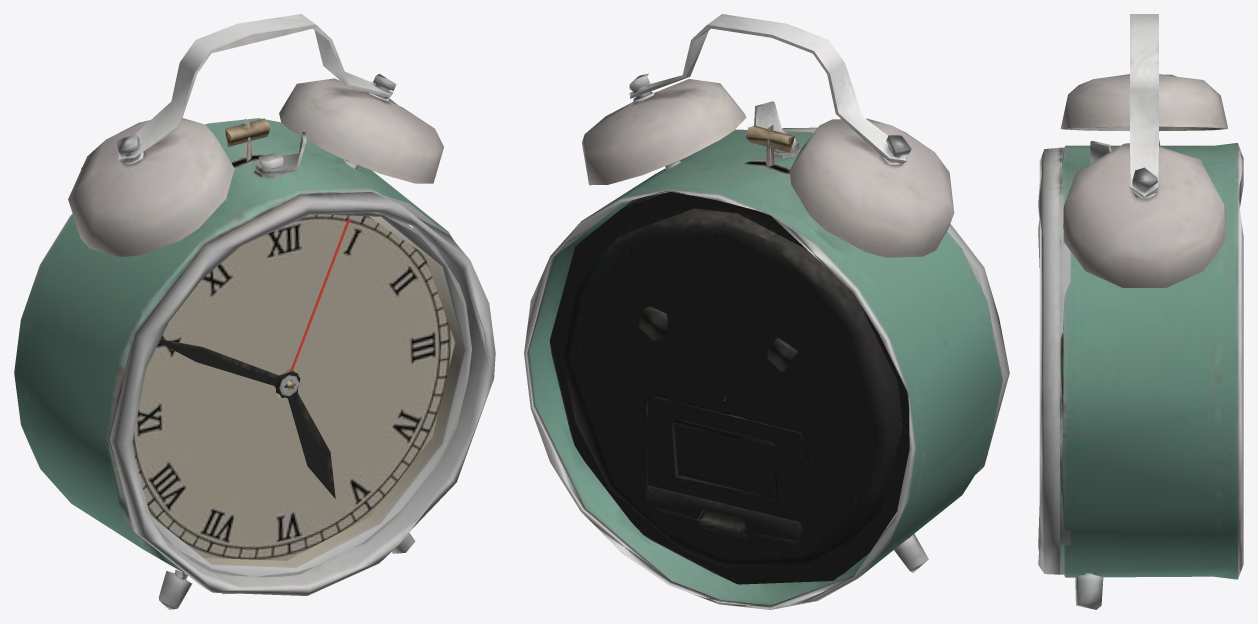
File: wecker.glb
The picture shows the model from 3 angles, left to right: view 1: azimuth 30°, elevation 25°; view 2: azimuth 150°, elevation 25°; view 3: azimuth 270°, elevation 25°; orthographic projection. The views are drawn at different scales.
Parts seen in each view (by area): view 1: alarm_clock_01; view 2: alarm_clock_01; view 3: alarm_clock_01.
Part boxes in pixels (x1,y1,x2,y2): alarm_clock_01: (14, 14, 495, 609); alarm_clock_01: (524, 14, 1009, 609); alarm_clock_01: (1038, 14, 1243, 609).
Size of the model in its own units: 0.1312 by 0.1738 by 0.0615.
1 material, 1 textured.
